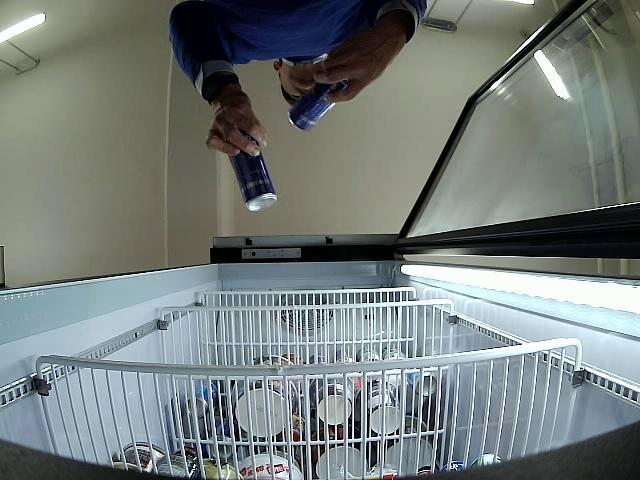16_hot6: (228, 132, 278, 211), (288, 80, 348, 134)
